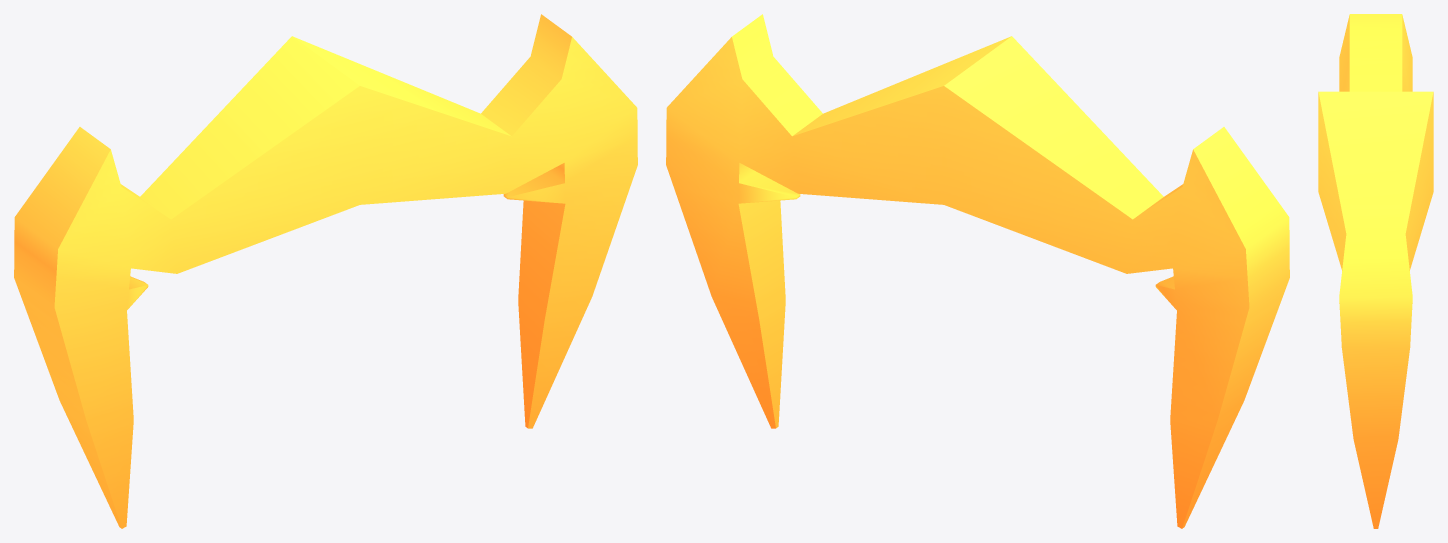
File: gold_guard_010.glb
3 renders of one model, left to right at view 1: azimuth 30°, elevation 25°; view 2: azimuth 150°, elevation 25°; view 3: azimuth 270°, elevation 25°, orthographic. The views are drawn at different scales.
Parts seen in each view (by area): view 1: gold_guard_010; view 2: gold_guard_010; view 3: gold_guard_010.
Boxes of the visible parts, x1,y1,x2,y2 form: gold_guard_010: (14, 14, 637, 528); gold_guard_010: (666, 14, 1289, 528); gold_guard_010: (1318, 14, 1433, 528).
Size of the model in its own units: 6.32 by 4.31 by 1.28.
Materials: 1 (1 with a texture image).
